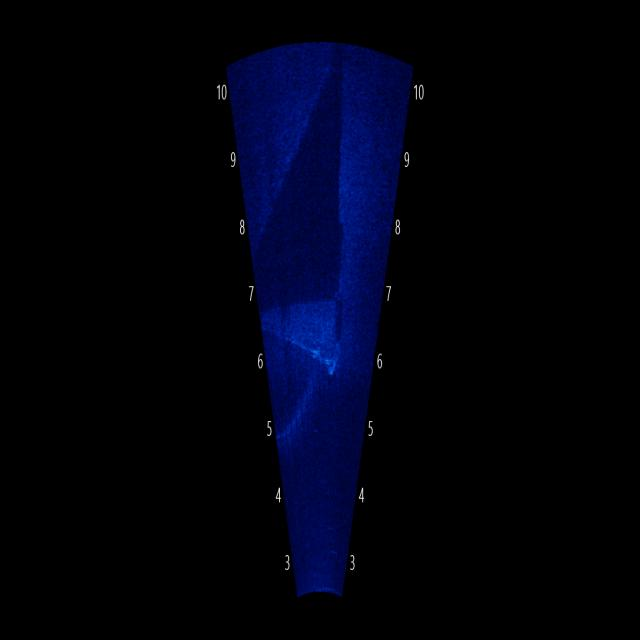triangle: (256, 289, 348, 374)
